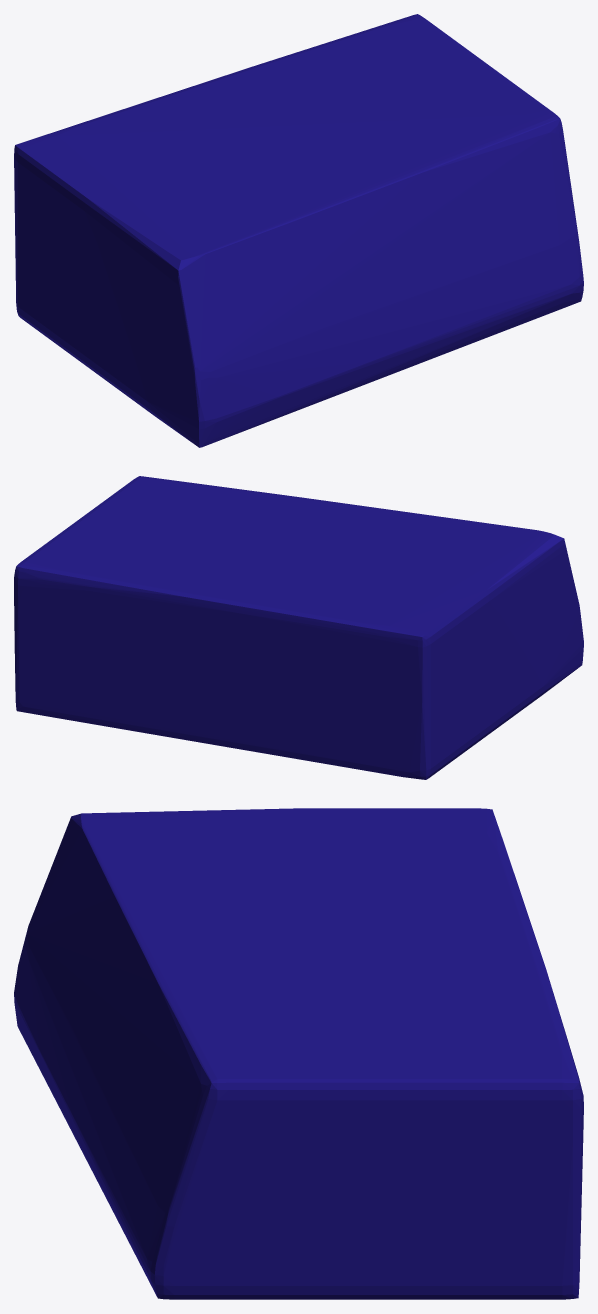
File: right-elbow-0_part_20.obj
The picture shows the model from 3 angles, top to bottom: view 1: azimuth 30°, elevation 25°; view 2: azimuth 150°, elevation 25°; view 3: azimuth 270°, elevation 25°; orthographic projection. The views are drawn at different scales.
Size of the model in its own units: 0.0556 by 0.0204 by 0.0481.
